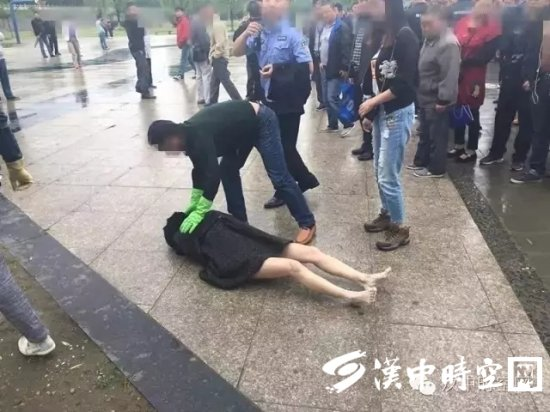10+: (1, 1, 550, 371)
down: (156, 202, 405, 318)
